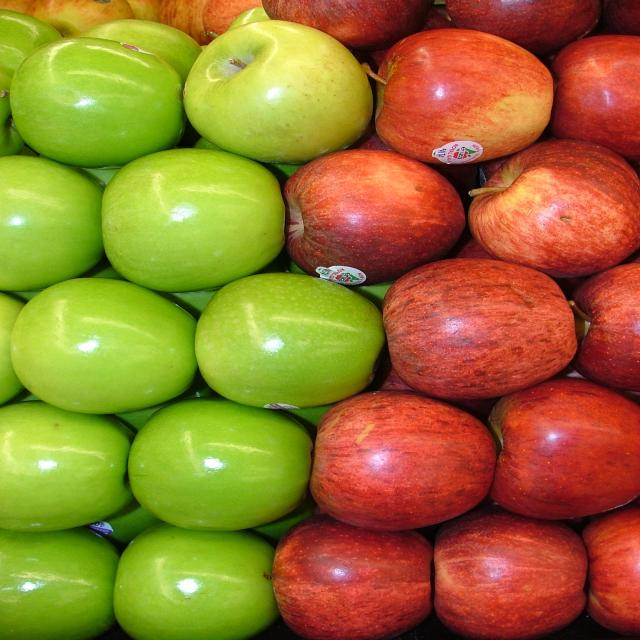apple: (375, 260, 590, 399), (88, 153, 290, 288), (184, 21, 368, 163), (9, 278, 197, 411), (128, 398, 313, 531), (308, 392, 486, 530), (194, 274, 380, 406), (375, 35, 558, 164), (286, 150, 458, 284), (10, 38, 186, 167), (486, 380, 640, 520), (432, 509, 589, 638), (114, 525, 279, 640), (0, 400, 134, 532), (0, 154, 107, 288), (0, 526, 120, 640), (548, 34, 640, 162)
